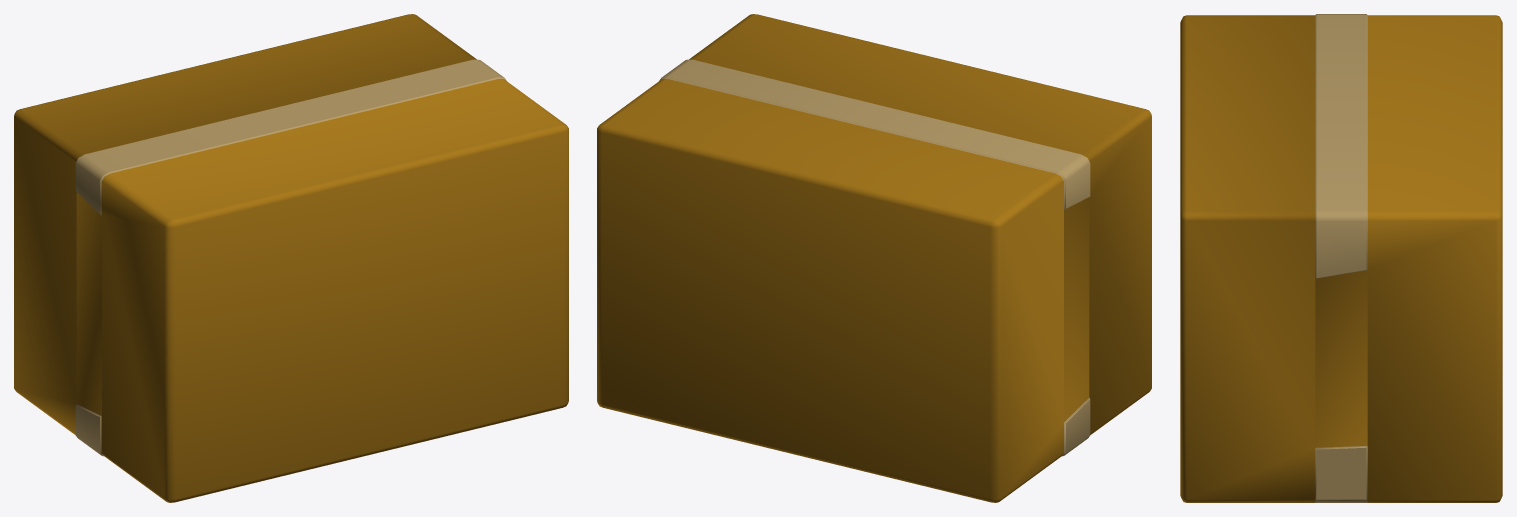
The picture shows the model from 3 angles, left to right: view 1: azimuth 30°, elevation 25°; view 2: azimuth 150°, elevation 25°; view 3: azimuth 270°, elevation 25°; orthographic projection. The views are drawn at different scales.
Parts seen in each view (by area): view 1: 3x2x2; view 2: 3x2x2; view 3: 3x2x2.
Part boxes in pixels (x1,y1,x2,y2): 3x2x2: (14,14,568,502); 3x2x2: (597,14,1151,502); 3x2x2: (1180,14,1502,502).
Bounding box in the file's own units: 30 × 20 × 20.
